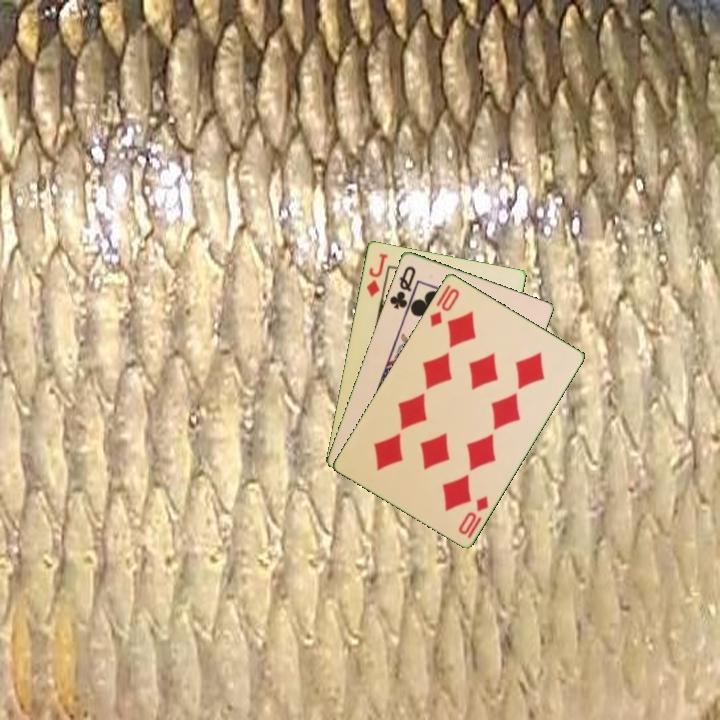10d: (455, 492, 491, 541), (426, 284, 462, 330)
Jd: (363, 249, 390, 300)
Qc: (386, 262, 419, 312)
